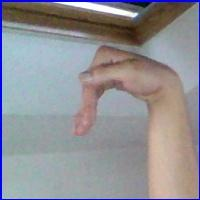del: (65, 37, 185, 148)
